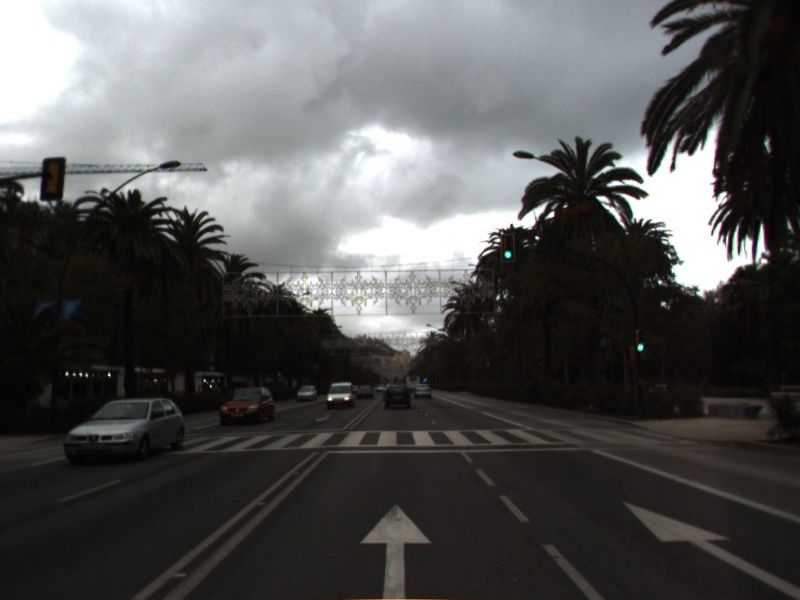STRAIGHT: (619, 497, 800, 600), (356, 500, 435, 600)
